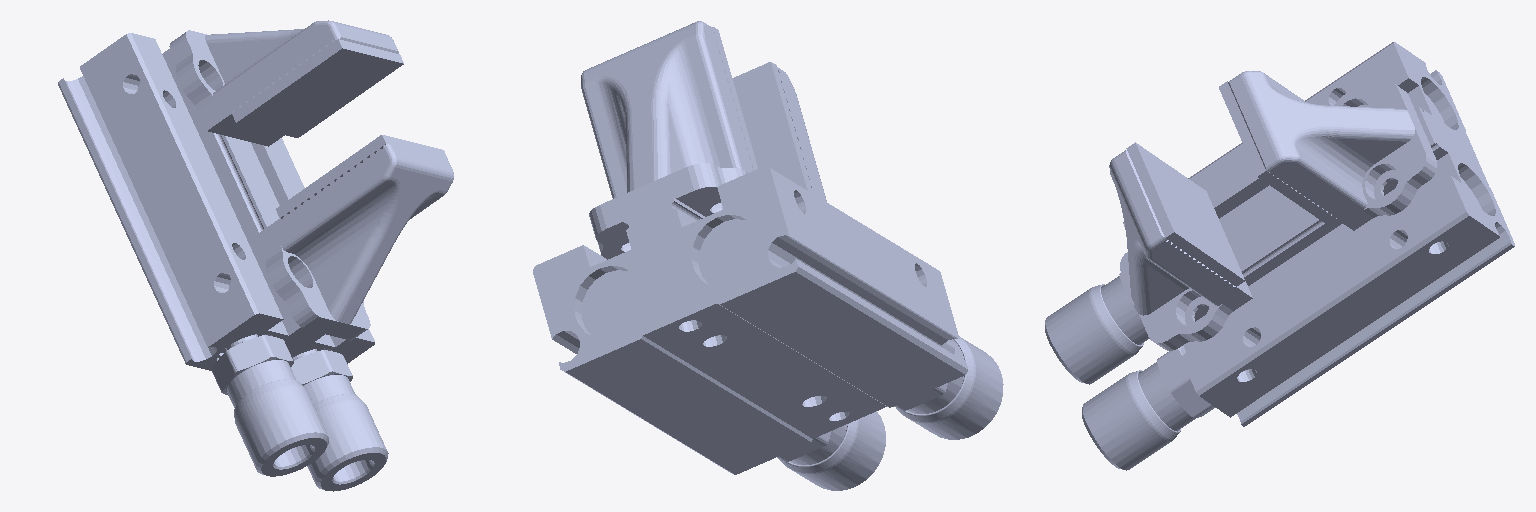
robot.urdf — Gripper_assy:
<?xml version="1.0" encoding="utf-8"?>
<!-- This URDF was automatically created by SolidWorks to URDF Exporter! Originally created by Stephen Brawner (brawner@gmail.com) 
     Commit Version: 1.6.0-4-g7f85cfe  Build Version: 1.6.7995.38578
     For more information, please see http://wiki.ros.org/sw_urdf_exporter -->
<robot
  name="Gripper_assy">
  <link
    name="base_link">
    <inertial>
      <origin
        xyz="0.00260207024023967 -0.0296703821312808 -0.0164693944942808"
        rpy="0 0 0" />
      <mass
        value="0.00236245358845557" />
      <inertia
        ixx="8.91646425994972E-08"
        ixy="-6.99757222434336E-10"
        ixz="-5.22588542233713E-10"
        iyy="6.00365856567188E-08"
        iyz="-2.17708922441049E-08"
        izz="7.29189451269679E-08" />
    </inertial>
    <visual>
      <origin
        xyz="0 0 0"
        rpy="0 0 0" />
      <geometry>
        <mesh
          filename="package://Gripper_assy/meshes/base_link.STL" />
      </geometry>
      <material
        name="">
        <color
          rgba="0.792156862745098 0.819607843137255 0.933333333333333 1" />
      </material>
    </visual>
    <collision>
      <origin
        xyz="0 0 0"
        rpy="0 0 0" />
      <geometry>
        <mesh
          filename="package://Gripper_assy/meshes/base_link.STL" />
      </geometry>
    </collision>
  </link>
  <link
    name="finger1">
    <inertial>
      <origin
        xyz="0.00034963270764244 0.00494100184607932 0.0133207852710216"
        rpy="0 0 0" />
      <mass
        value="0.00355871364944461" />
      <inertia
        ixx="1.87897152848441E-07"
        ixy="4.9592413294708E-08"
        ixz="2.67501429016142E-08"
        iyy="1.80391168997213E-07"
        iyz="-5.45921369856547E-08"
        izz="2.16372621521956E-07" />
    </inertial>
    <visual>
      <origin
        xyz="0 0 0"
        rpy="0 0 0" />
      <geometry>
        <mesh
          filename="package://Gripper_assy/meshes/finger1.STL" />
      </geometry>
      <material
        name="">
        <color
          rgba="0.792156862745098 0.819607843137255 0.933333333333333 1" />
      </material>
    </visual>
    <collision>
      <origin
        xyz="0 0 0"
        rpy="0 0 0" />
      <geometry>
        <mesh
          filename="package://Gripper_assy/meshes/finger1.STL" />
      </geometry>
    </collision>
  </link>
  <joint
    name="finger1"
    type="prismatic">
    <origin
      xyz="0.01539 0.0016204 0.010189"
      rpy="0 0 -3.1416" />
    <parent
      link="base_link" />
    <child
      link="finger1" />
    <axis
      xyz="0.019197 0.801 -0.59836" />
    <limit
      lower="0"
      upper="0"
      effort="0"
      velocity="0" />
  </joint>
  <link
    name="finger2">
    <inertial>
      <origin
        xyz="-0.000503434373639033 -0.01135887013939 0.00852634242278859"
        rpy="0 0 0" />
      <mass
        value="0.00355873304715105" />
      <inertia
        ixx="1.86157705173348E-07"
        ixy="1.41428298827634E-08"
        ixz="-5.47512626440136E-08"
        iyy="2.42379602392971E-07"
        iyz="3.74130954548628E-08"
        izz="1.56110065667142E-07" />
    </inertial>
    <visual>
      <origin
        xyz="0 0 0"
        rpy="0 0 0" />
      <geometry>
        <mesh
          filename="package://Gripper_assy/meshes/finger2.STL" />
      </geometry>
      <material
        name="">
        <color
          rgba="0.792156862745098 0.819607843137255 0.933333333333333 1" />
      </material>
    </visual>
    <collision>
      <origin
        xyz="0 0 0"
        rpy="0 0 0" />
      <geometry>
        <mesh
          filename="package://Gripper_assy/meshes/finger2.STL" />
      </geometry>
    </collision>
  </link>
  <joint
    name="finger2"
    type="prismatic">
    <origin
      xyz="0.015046 -0.012729 -0.0005306"
      rpy="0 0 0" />
    <parent
      link="base_link" />
    <child
      link="finger2" />
    <axis
      xyz="-0.81458 -0.33448 0.47389" />
    <limit
      lower="0"
      upper="0"
      effort="0"
      velocity="0" />
  </joint>
</robot>

--- Render facts (derived) ---
Views: 3 orthographic renders of the robot side by side, from view 1: azimuth 30°, elevation 25°; view 2: azimuth 150°, elevation 25°; view 3: azimuth 270°, elevation 25°.
Robot: Gripper_assy — 3 links, 2 joints (2 prismatic); root link base_link; default pose: every joint at zero.
Links seen in each view (by area): view 1: base_link, finger2, finger1; view 2: base_link, finger1, finger2; view 3: base_link, finger1, finger2.
Link boxes in pixels (bbox=[...]): base_link: bbox=[58, 33, 388, 491]; finger2: bbox=[255, 135, 453, 340]; finger1: bbox=[169, 20, 403, 146]; base_link: bbox=[533, 166, 1003, 490]; finger1: bbox=[581, 21, 757, 259]; finger2: bbox=[732, 62, 826, 201]; base_link: bbox=[1045, 42, 1514, 470]; finger1: bbox=[1219, 71, 1437, 230]; finger2: bbox=[1109, 142, 1252, 350].
Size in the robot's own frame: 0.0433 by 0.0669 by 0.0655 metres.
Meshes: 3 distinct files referenced, 3 mesh visuals loaded (3 binary STL).
